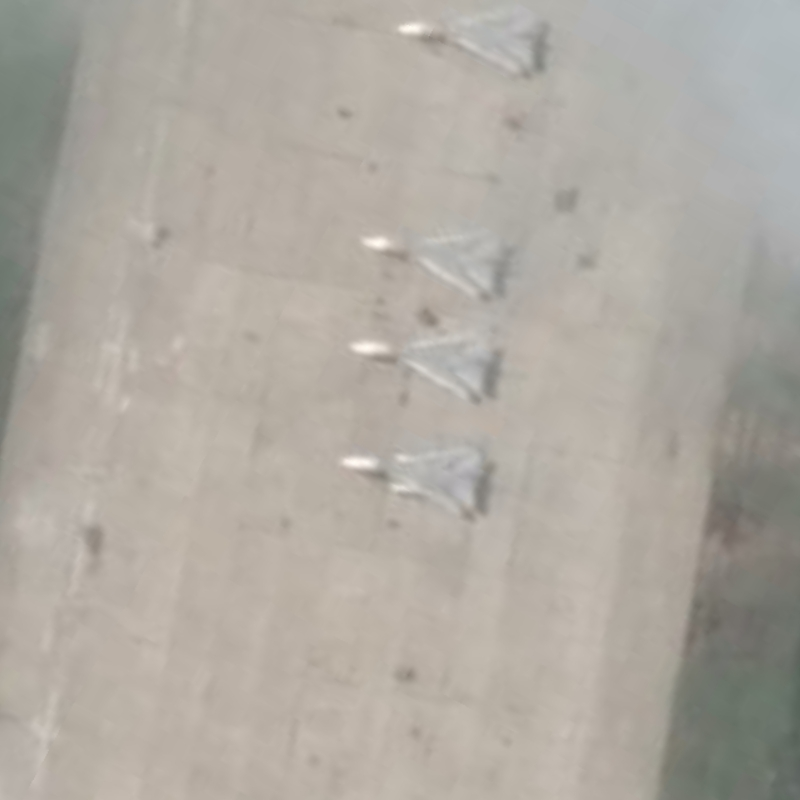A20: (345, 328, 497, 404), (338, 444, 487, 521), (358, 227, 504, 301), (396, 6, 543, 78)
